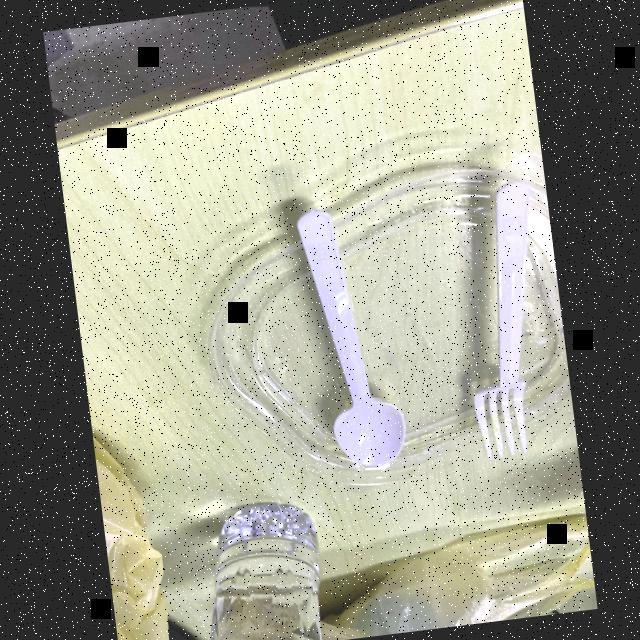plastic_spoon: (274, 185, 426, 500), (278, 187, 429, 499), (450, 162, 557, 493)
